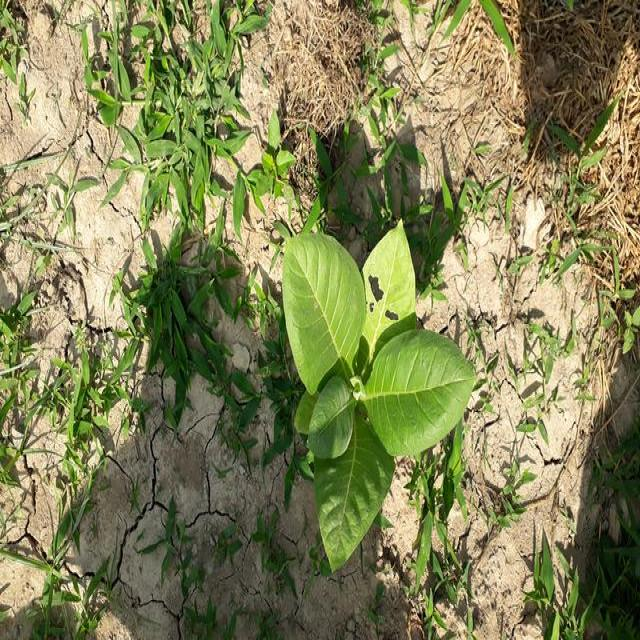crop: (279, 230, 476, 571)
